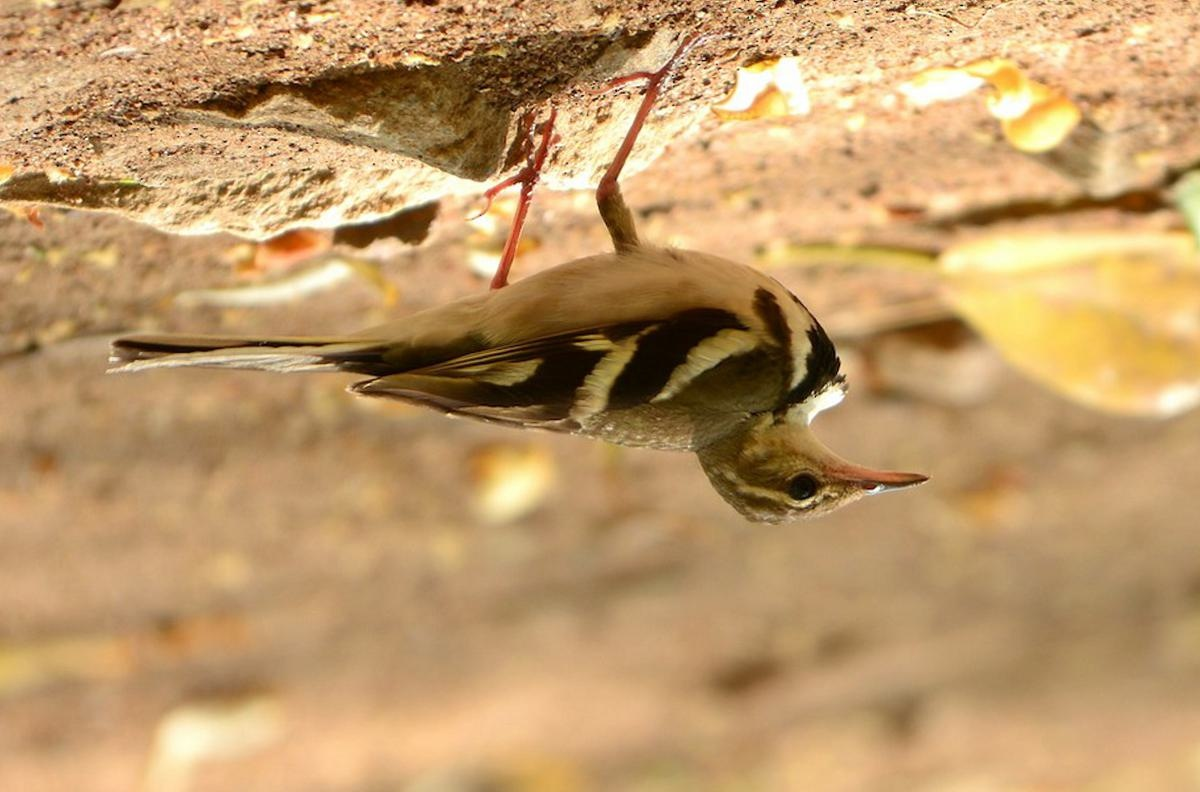wagtail: (121, 78, 937, 530)
